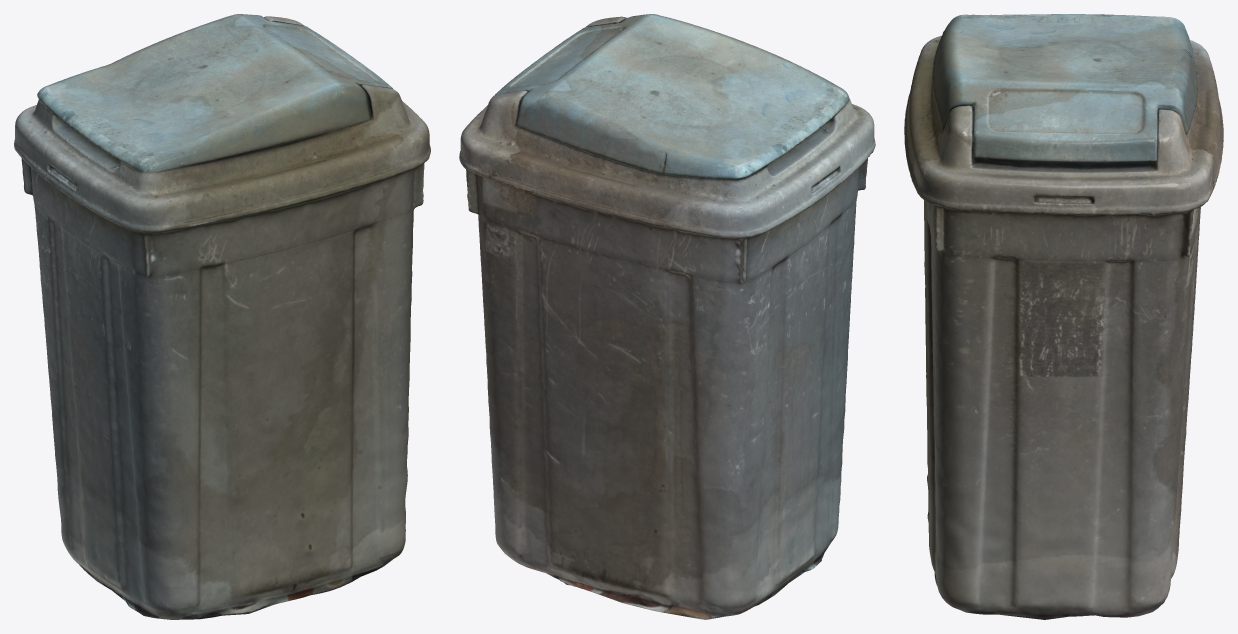
The model's file is Garbage Bin.fbx.
The picture shows the model from 3 angles, left to right: view 1: azimuth 30°, elevation 25°; view 2: azimuth 150°, elevation 25°; view 3: azimuth 270°, elevation 25°; orthographic projection. The views are drawn at different scales.
Parts seen in each view (by area): view 1: Dusty Old Gray Bin; view 2: Dusty Old Gray Bin; view 3: Dusty Old Gray Bin.
Part boxes in pixels (bbox=[...]): Dusty Old Gray Bin: bbox=[14, 14, 430, 619]; Dusty Old Gray Bin: bbox=[459, 14, 875, 619]; Dusty Old Gray Bin: bbox=[904, 14, 1223, 619].
Bounding box in the file's own units: 115 × 168 × 94.69.
1 material, 1 textured.
